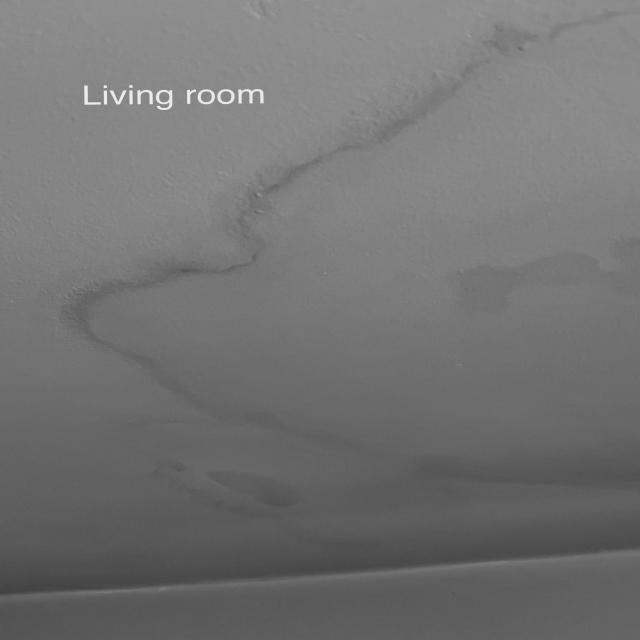stain marks: (473, 5, 640, 498), (297, 111, 393, 486), (208, 159, 292, 542), (401, 65, 468, 495), (52, 260, 206, 426), (134, 428, 203, 540)
